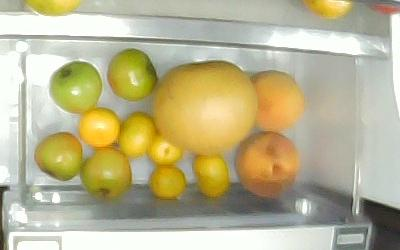peach: (233, 129, 300, 198), (248, 69, 303, 132)
pear: (151, 59, 258, 154)
tangerine: (115, 110, 156, 158), (76, 106, 120, 147), (191, 153, 229, 197), (147, 164, 186, 199), (147, 135, 183, 164)
tomato: (78, 146, 132, 201), (48, 60, 102, 113), (105, 48, 157, 101), (34, 131, 83, 180)
